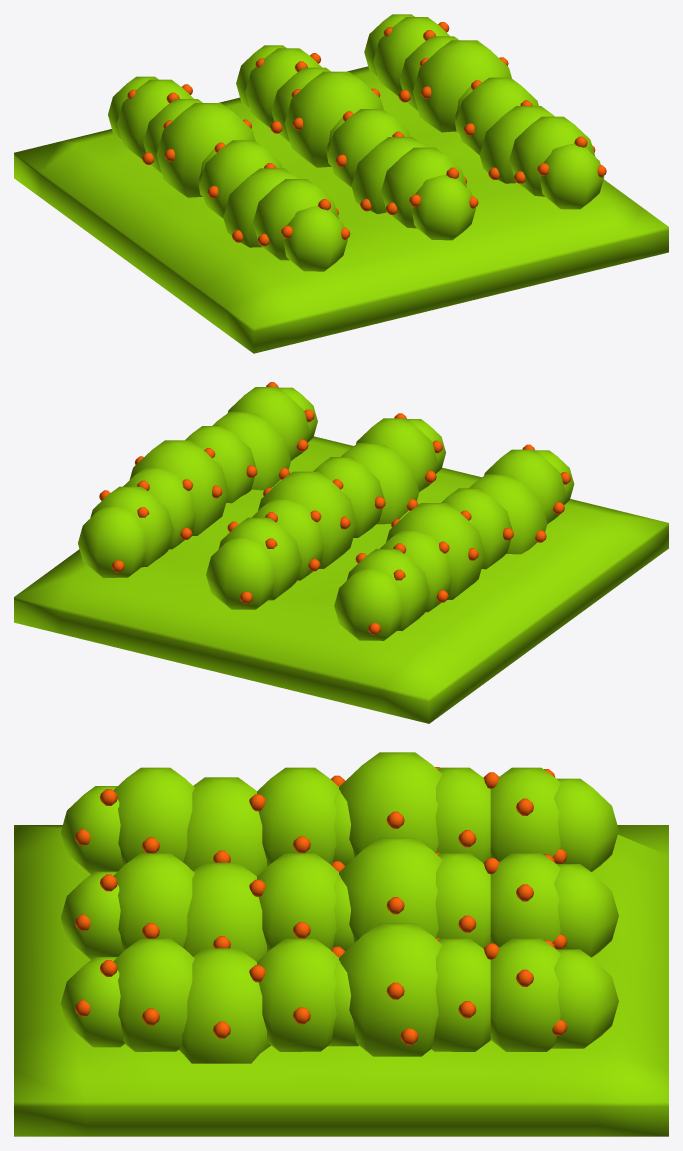
File: TheOrangeFarm.fbx
The picture shows the model from 3 angles, top to bottom: view 1: azimuth 30°, elevation 25°; view 2: azimuth 150°, elevation 25°; view 3: azimuth 270°, elevation 25°; orthographic projection. The views are drawn at different scales.
Visible parts, largest first — view 1: Plane.012, Plane.028; view 2: Plane.012, Plane.028; view 3: Plane.012, Plane.028.
Part boxes in pixels (box(x1,y1,x2,y2)): Plane.012: box(108, 14, 606, 271); Plane.028: box(14, 66, 668, 353); Plane.012: box(78, 382, 574, 640); Plane.028: box(14, 436, 668, 723); Plane.012: box(60, 752, 618, 1063); Plane.028: box(14, 825, 668, 1136).
Bounding box in the file's own units: 2457 × 691 × 2457.
